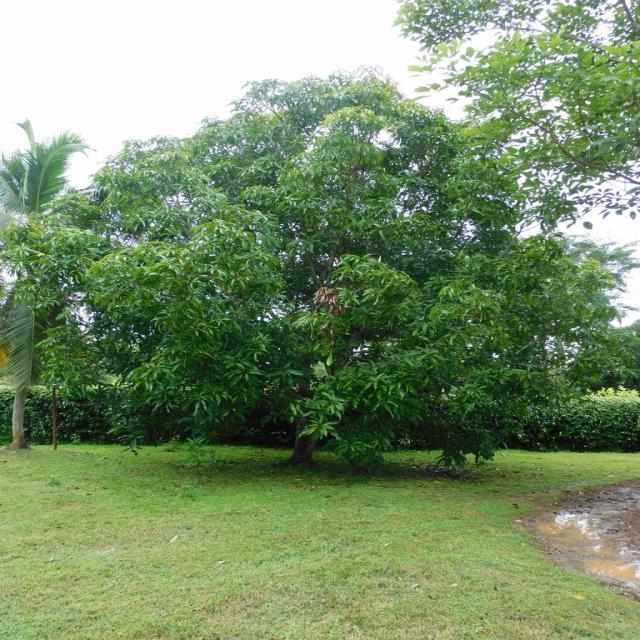Mango-Tree: (51, 70, 640, 497)
